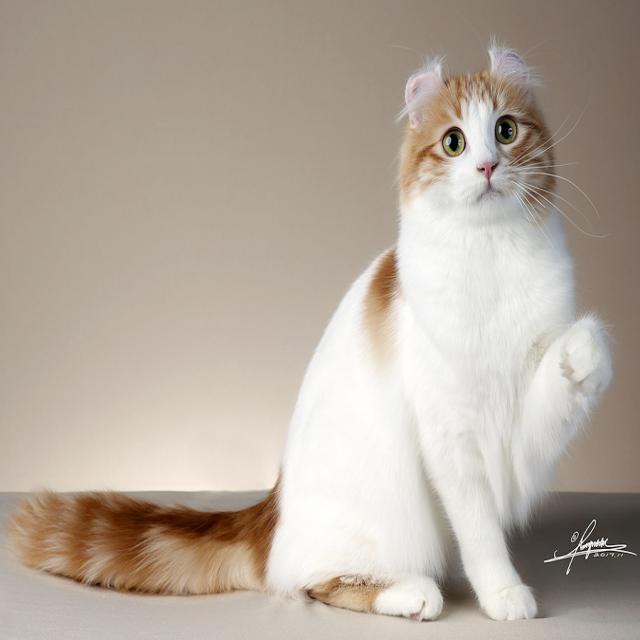American Curl: (5, 37, 618, 628)
